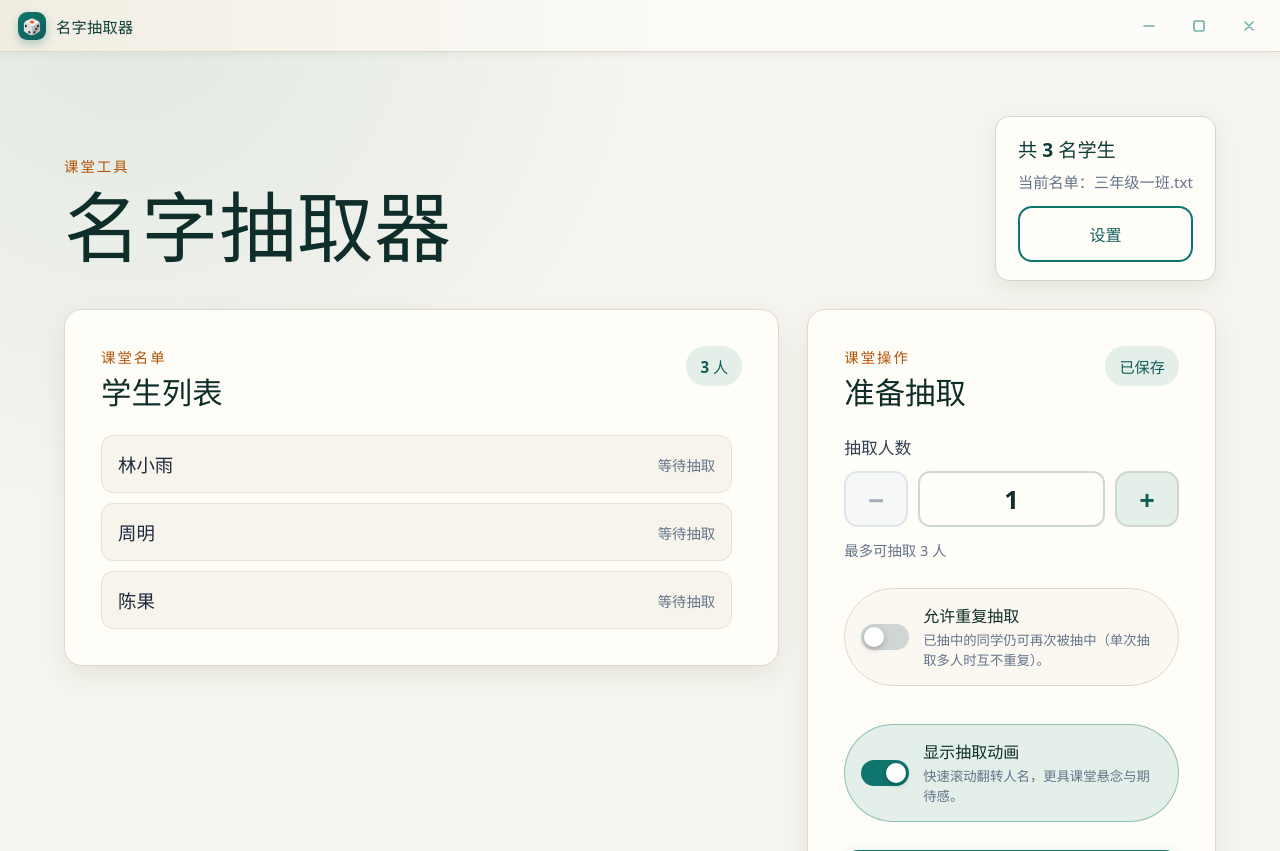
Scenario: 课堂主界面 › 重新选取人员名单入口在设置抽屉里，导入成功后回到主界面
Expected: the text "共 3 名学生" is shown, [1018,136,1116,163]
Click the button with aria-label "打开设置". click: (1106, 234)
box: [1018,206,1193,262]
(page scrolled)
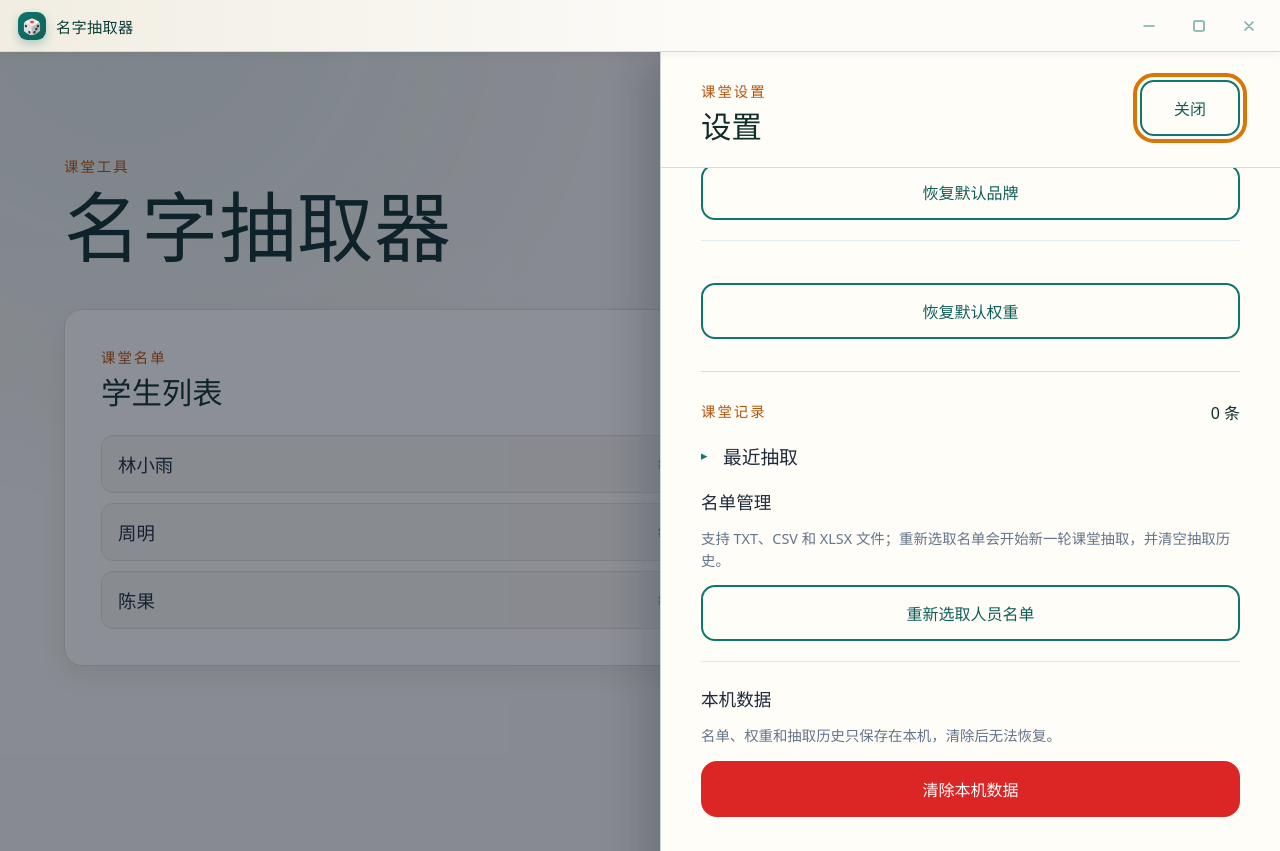
Click the button "重新选取人员名单". click: (970, 613)
box: [701,585,1240,641]
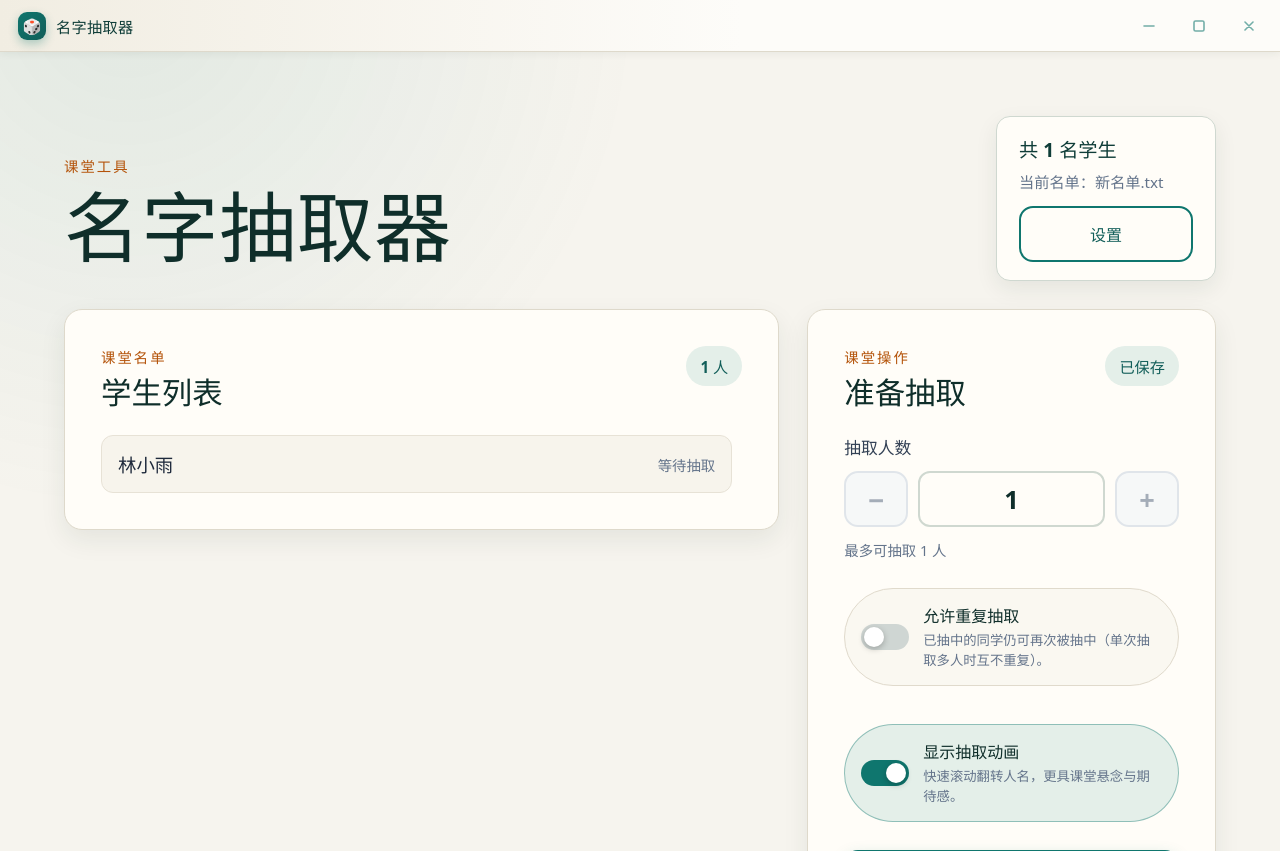
Expected: the text "共 1 名学生" is shown, [1019,136,1117,163]
